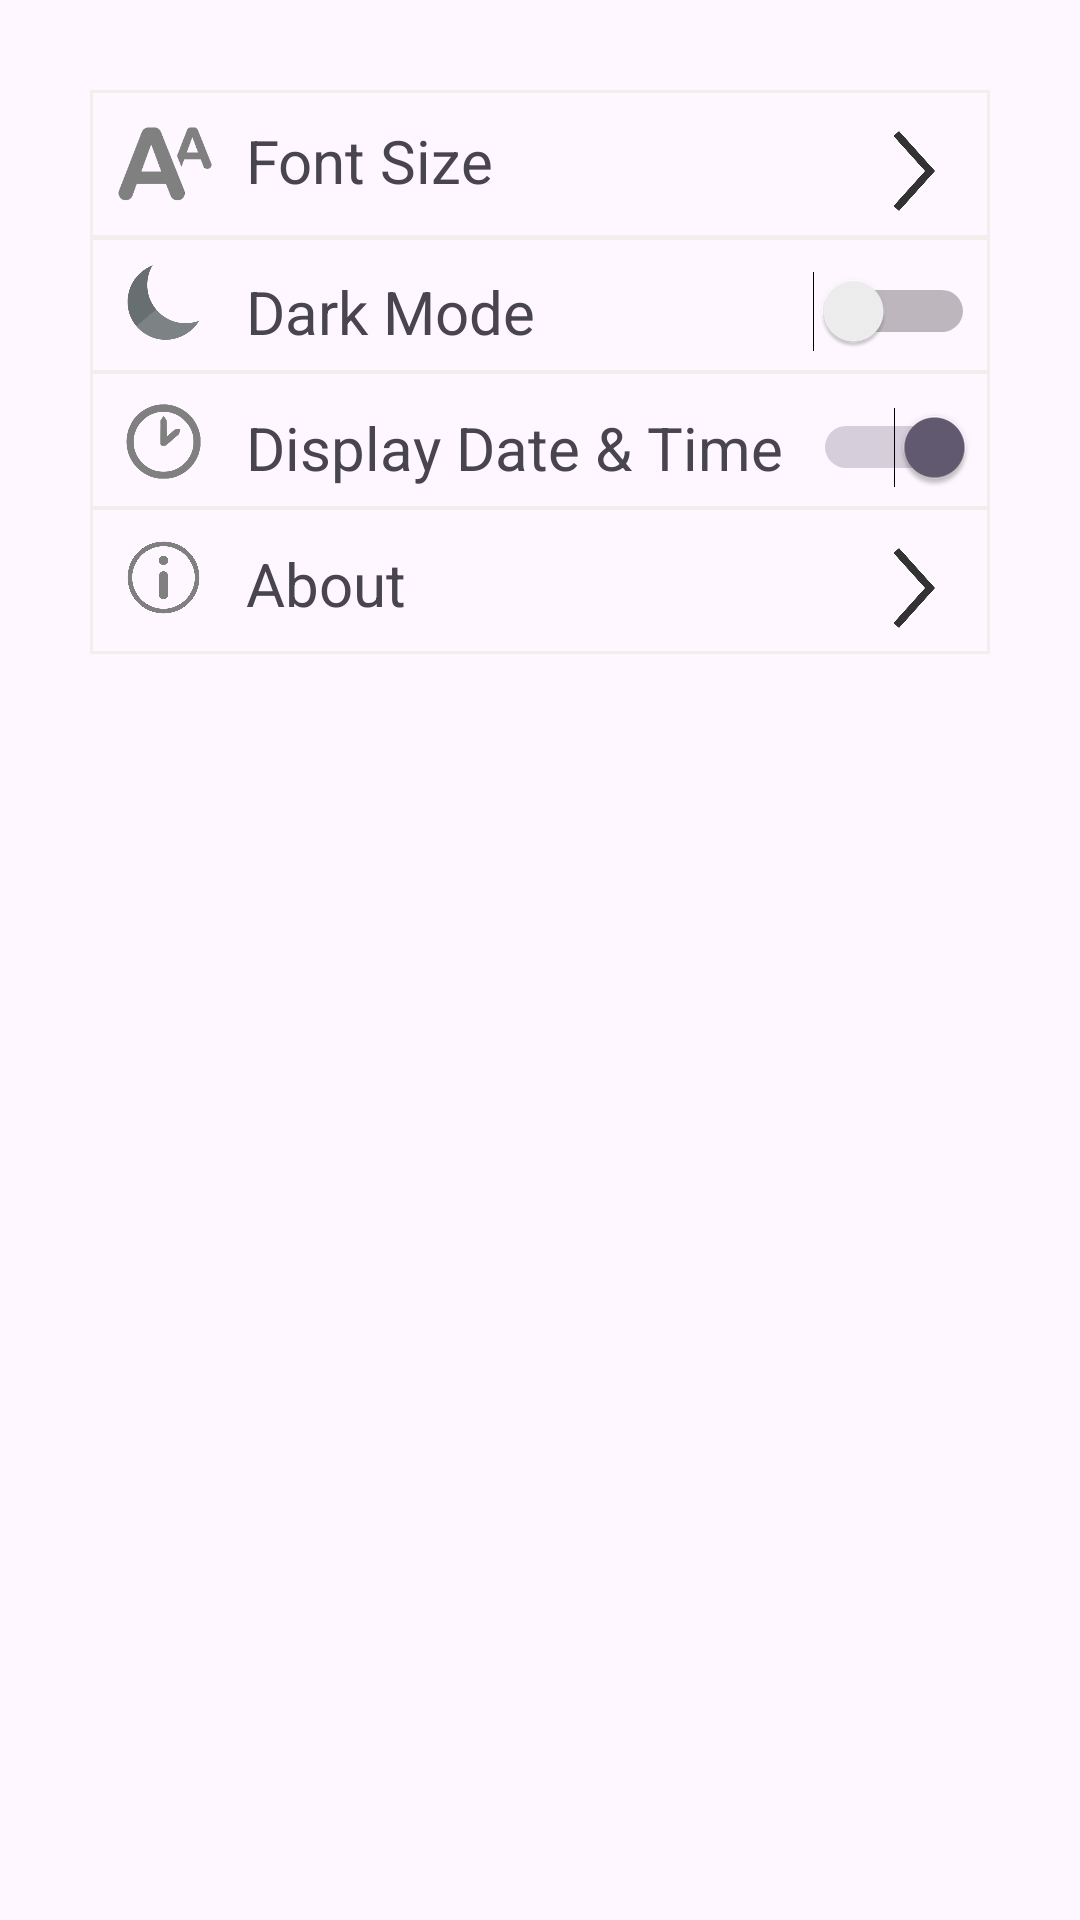

Named icons in this screenshot (1080×1920) and their centers, (x=x, y=y):
arrow right: (x=914, y=171), (x=914, y=588)
